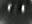person: (7, 4, 13, 15), (23, 5, 28, 16)
